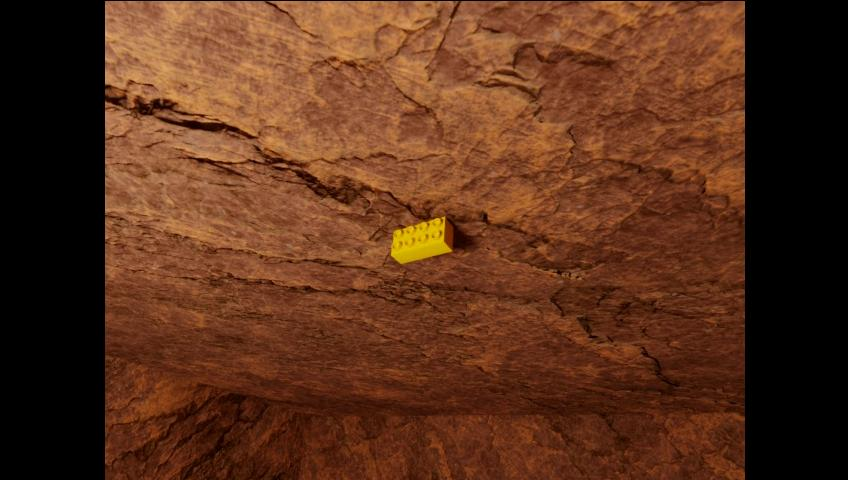4x2_yellow: (391, 217, 453, 264)
